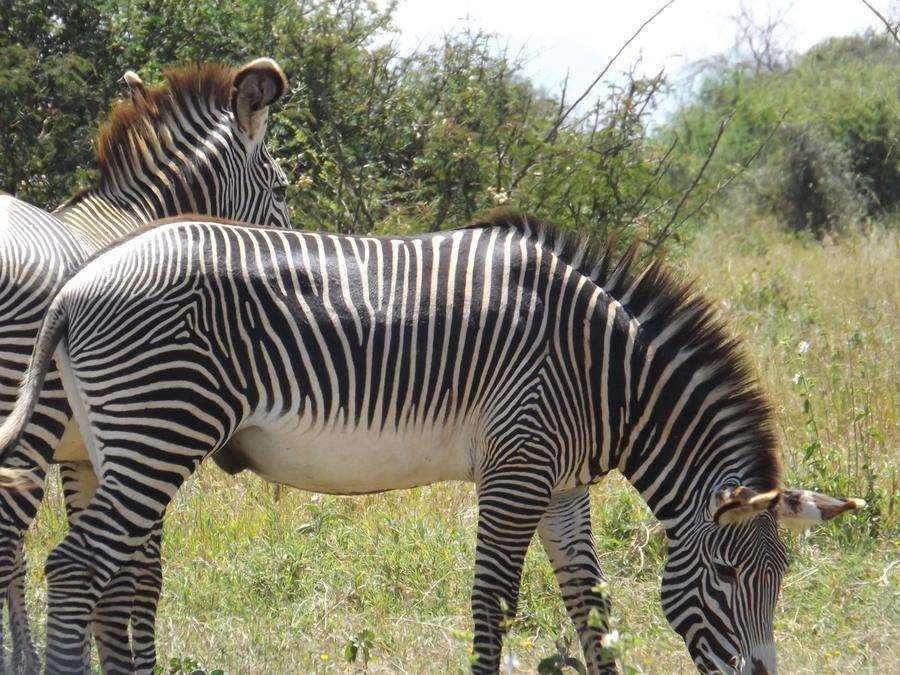zebra_grevys: (62, 202, 582, 498)
